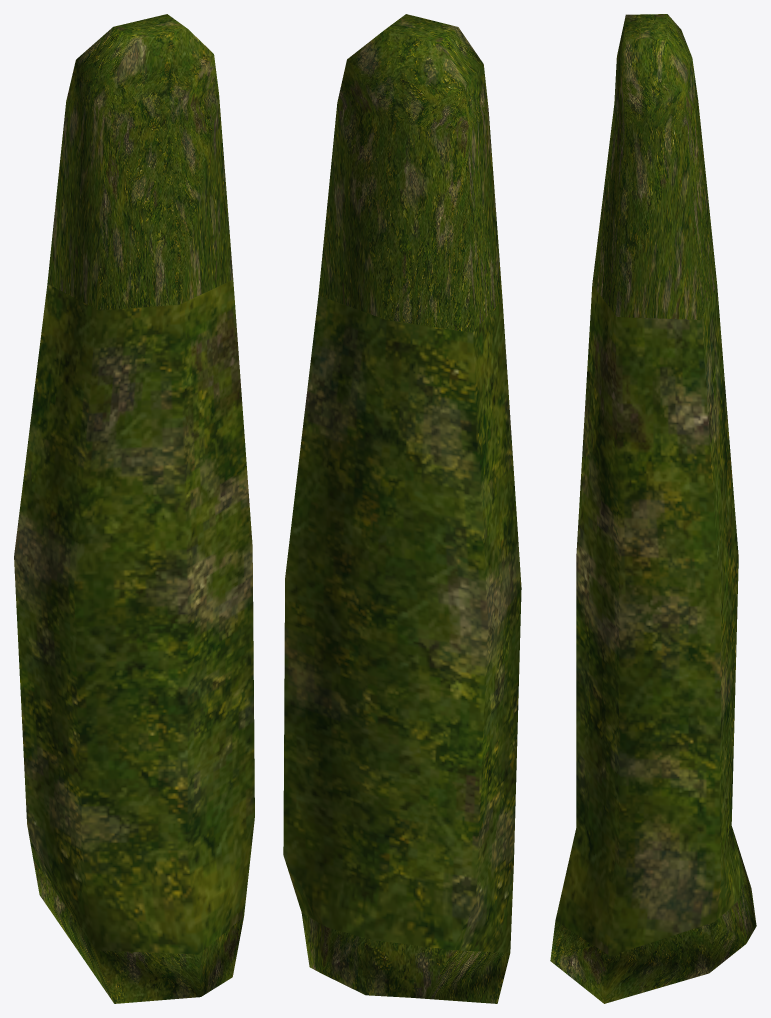
File: ANIMATEDINSTANCES_ROCK_BRIDGE1__AI.fbx
3 views of the same model, side by side, from view 1: azimuth 30°, elevation 25°; view 2: azimuth 150°, elevation 25°; view 3: azimuth 270°, elevation 25° (orthographic). The views are drawn at different scales.
Visible parts, largest first — view 1: ANIMATEDINSTANCES_ROCK_BRIDGE1__AI; view 2: ANIMATEDINSTANCES_ROCK_BRIDGE1__AI; view 3: ANIMATEDINSTANCES_ROCK_BRIDGE1__AI.
Boxes of the visible parts, x1=… form: ANIMATEDINSTANCES_ROCK_BRIDGE1__AI: x1=14, y1=14, x2=254, y2=1003; ANIMATEDINSTANCES_ROCK_BRIDGE1__AI: x1=283, y1=14, x2=521, y2=1003; ANIMATEDINSTANCES_ROCK_BRIDGE1__AI: x1=550, y1=14, x2=756, y2=1003.
Size of the model in its own units: 13471 by 61590 by 12144.
1 material, 1 textured.
